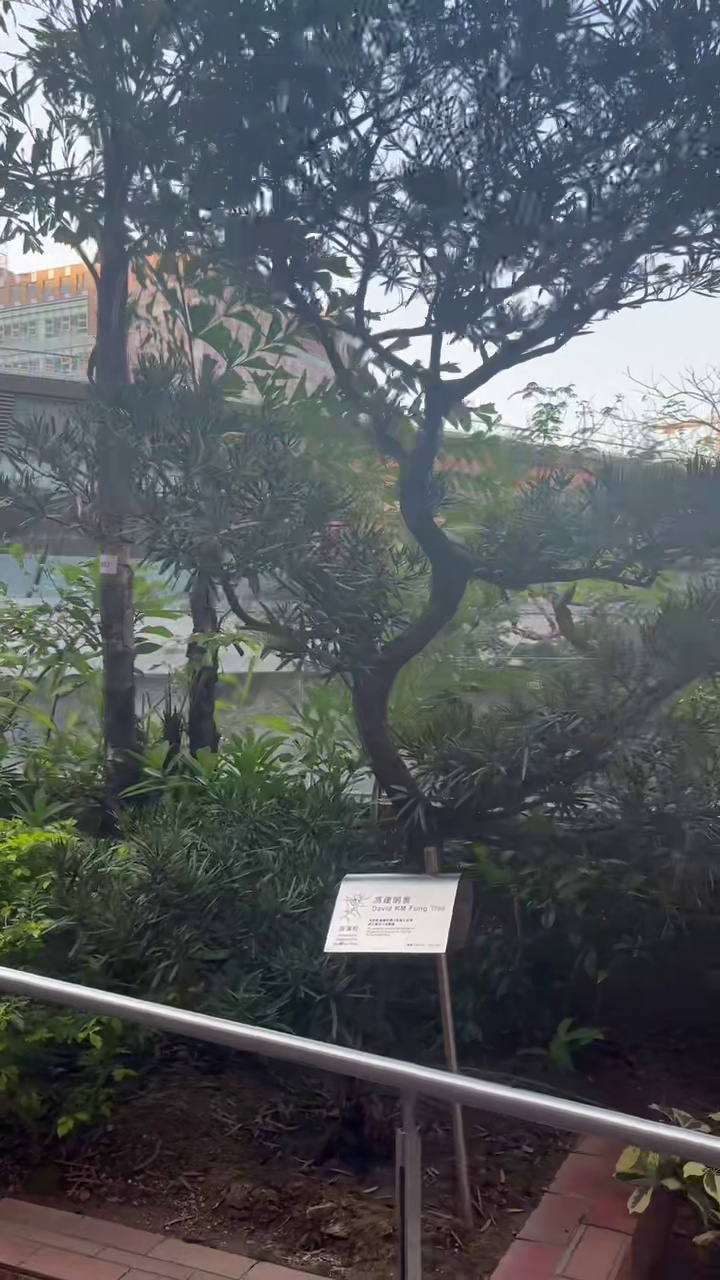Podocarpus macrophyllus: (7, 0, 719, 820)
